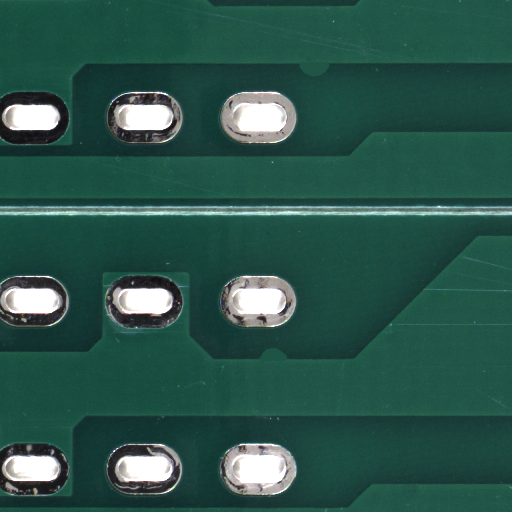Spur: (316, 66, 353, 82), (274, 353, 305, 366)
